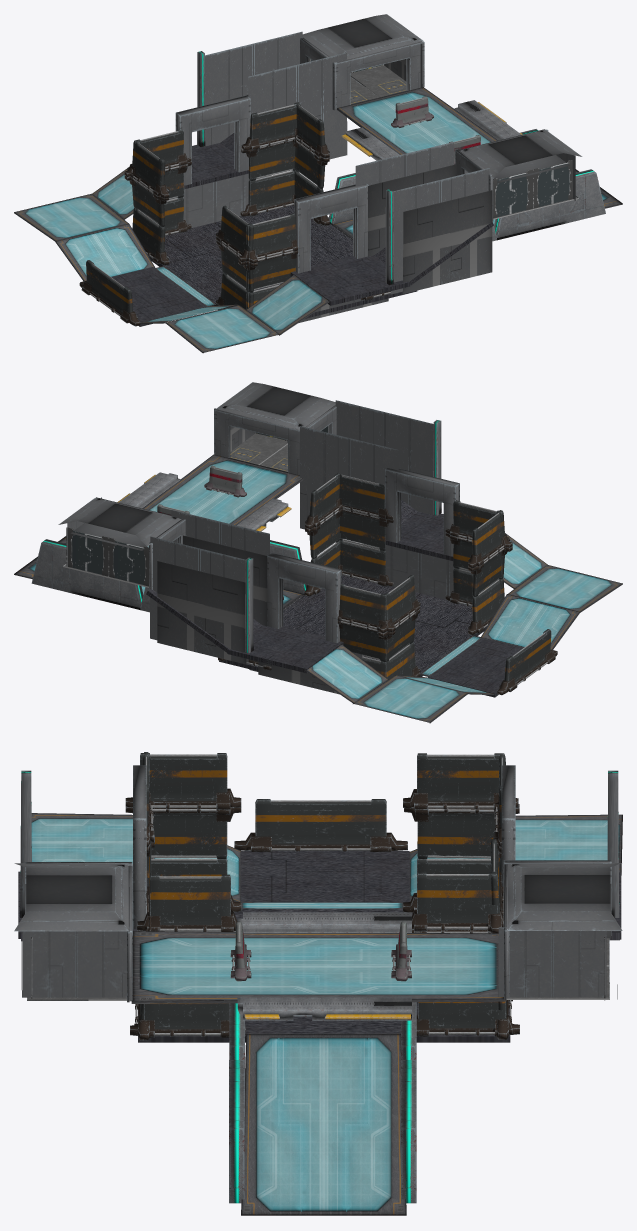
Rendered from AbeStage2_2.fbx.
3 views of the same model, one above another, from view 1: azimuth 30°, elevation 25°; view 2: azimuth 150°, elevation 25°; view 3: azimuth 270°, elevation 25° (orthographic). The views are drawn at different scales.
Parts seen in each view (by area): view 1: Spaceship_room_wall1_mdl__4_, Docking_Floors_mdl__13_, shipboard_mdl, Spaceship_room_wall1_mdl__6_, Spaceship_room_wall1_mdl__7_, Spaceship_room_wall1_mdl__2_, Spaceship_room_ceiling_mdl__1_, Docking_Floors_mdl__6_, Spaceship_shipboard_mdl__6_, Spaceship_room_ceiling_mdl__2_, Spaceship_shipboard_mdl__8_, Spaceship_shipboard_mdl__3_ (+41 smaller); view 2: Spaceship_room_wall1_mdl__7_, Docking_Floors_mdl__13_, shipboard_mdl, Spaceship_room_wall1_mdl__2_, Spaceship_room_wall1_mdl__4_, Spaceship_room_wall1_mdl__6_, Spaceship_room_ceiling_mdl__2_, spaceship_shipboard_wall_mdl_3, Spaceship_shipboard_mdl__1_, Spaceship_room_ceiling_mdl__1_, Spaceship_roomenter_mdl__12_, Spaceship_shipboard_mdl__8_ (+39 smaller); view 3: Spaceship_shipboard_mdl__5_, shipboard_mdl, Docking_Floors_mdl__14_, Spaceship_docking_side_mdl, Barricade_mdl, Spaceship_room_ceiling_mdl__1_, Spaceship_room_ceiling_mdl__2_, Spaceship_room_wall2_mdl__1_, Spaceship_room_wall2_mdl__2_, Spaceship_shipboard_mdl__3_, Barricade_mdl__20_, Barricade_mdl__25_ (+25 smaller).
Part boxes in pixels (left/top/right/bottom): Spaceship_room_wall1_mdl__4_: left=390, top=168, right=492, bottom=294; Docking_Floors_mdl__13_: left=149, top=205, right=417, bottom=318; shipboard_mdl: left=337, top=87, right=497, bottom=154; Spaceship_room_wall1_mdl__6_: left=246, top=52, right=347, bottom=159; Spaceship_room_wall1_mdl__7_: left=204, top=31, right=302, bottom=146; Spaceship_room_wall1_mdl__2_: left=355, top=142, right=455, bottom=256; Spaceship_room_ceiling_mdl__1_: left=459, top=130, right=582, bottom=182; Docking_Floors_mdl__6_: left=290, top=255, right=410, bottom=305; Spaceship_shipboard_mdl__6_: left=55, top=224, right=155, bottom=281; Spaceship_room_ceiling_mdl__2_: left=302, top=14, right=423, bottom=62; Spaceship_shipboard_mdl__8_: left=14, top=193, right=128, bottom=241; Spaceship_shipboard_mdl__3_: left=166, top=305, right=278, bottom=353; Spaceship_room_wall1_mdl__7_: left=150, top=536, right=248, bottom=664; Docking_Floors_mdl__13_: left=219, top=575, right=487, bottom=676; shipboard_mdl: left=142, top=454, right=303, bottom=547; Spaceship_room_wall1_mdl__2_: left=300, top=426, right=398, bottom=541; Spaceship_room_wall1_mdl__4_: left=335, top=400, right=433, bottom=515; Spaceship_room_wall1_mdl__6_: left=171, top=510, right=269, bottom=626; Spaceship_room_ceiling_mdl__2_: left=58, top=498, right=182, bottom=550; spaceship_shipboard_wall_mdl_3: left=31, top=539, right=143, bottom=610; Spaceship_shipboard_mdl__1_: left=480, top=594, right=580, bottom=649; Spaceship_room_ceiling_mdl__1_: left=216, top=382, right=335, bottom=429; Spaceship_roomenter_mdl__12_: left=267, top=554, right=339, bottom=643; Spaceship_shipboard_mdl__8_: left=353, top=675, right=468, bottom=723; Spaceship_shipboard_mdl__5_: left=241, top=1033, right=406, bottom=1215; shipboard_mdl: left=131, top=931, right=504, bottom=1003; Docking_Floors_mdl__14_: left=240, top=851, right=409, bottom=902; Spaceship_docking_side_mdl: left=237, top=912, right=411, bottom=1020; Barricade_mdl: left=234, top=799, right=407, bottom=851; Spaceship_room_ceiling_mdl__1_: left=14, top=863, right=128, bottom=931; Spaceship_room_ceiling_mdl__2_: left=508, top=863, right=622, bottom=938; Spaceship_room_wall2_mdl__1_: left=22, top=927, right=129, bottom=997; Spaceship_room_wall2_mdl__2_: left=498, top=927, right=606, bottom=997; Spaceship_shipboard_mdl__3_: left=31, top=813, right=151, bottom=863; Barricade_mdl__20_: left=403, top=753, right=518, bottom=810; Barricade_mdl__25_: left=137, top=874, right=237, bottom=931.
Size of the model in its own units: 3316 by 936 by 2279.
